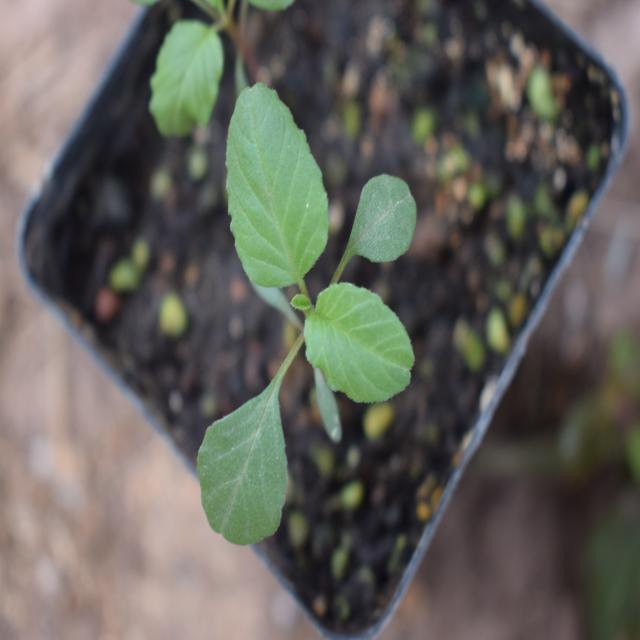pigweed: (180, 66, 420, 548)
